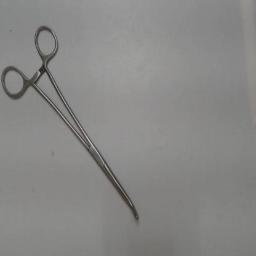Lahey Forceps: (2, 20, 148, 226)
